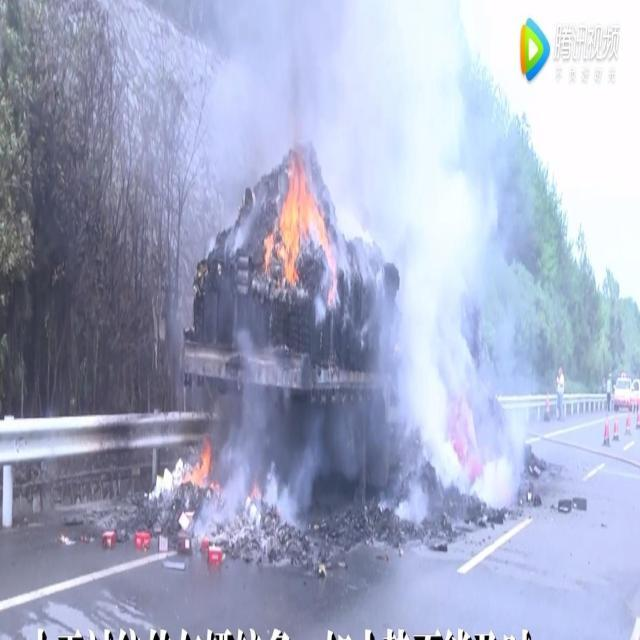Fire: (264, 154, 338, 309), (182, 438, 222, 492)
Smoke: (170, 1, 544, 548)
